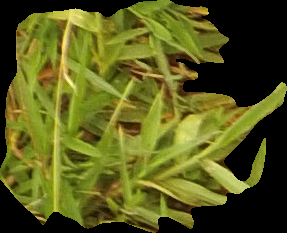grass: (1, 1, 285, 232)
